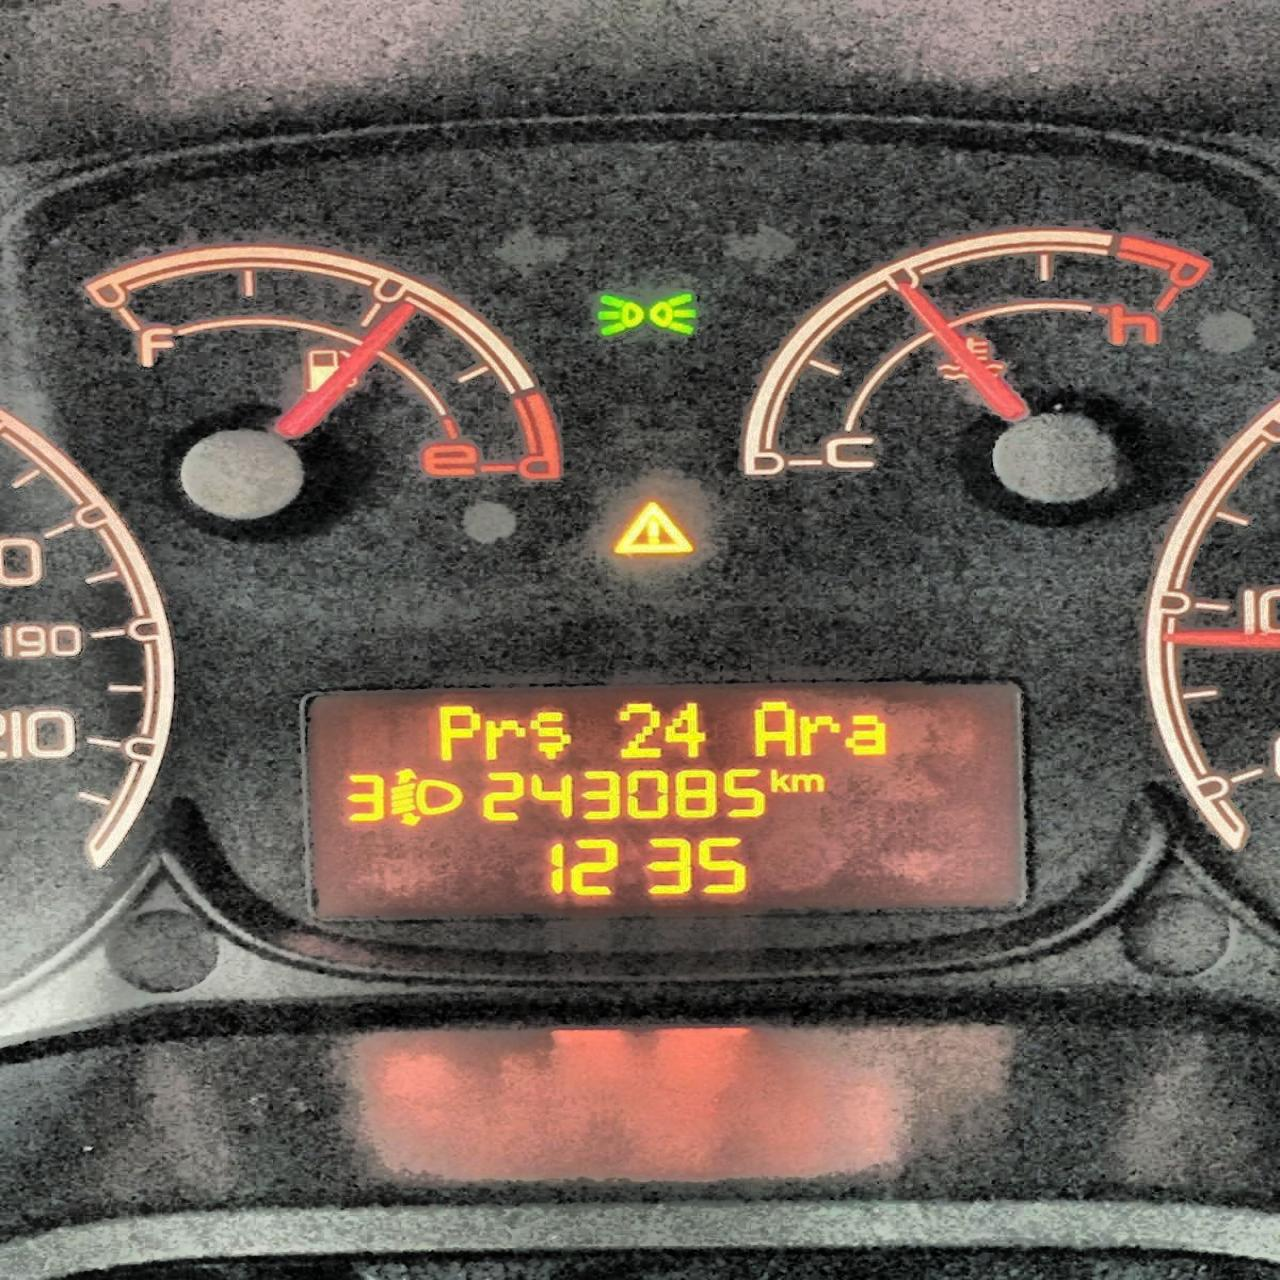0: (626, 765, 669, 819)
1: (542, 836, 564, 899)
2: (568, 836, 618, 897), (618, 700, 663, 763), (482, 767, 523, 824)
3: (639, 833, 693, 899), (341, 765, 383, 826), (579, 768, 620, 822)
4: (526, 768, 574, 822), (668, 699, 708, 760)
5: (693, 836, 751, 898), (722, 764, 763, 824)
8: (674, 765, 716, 822)
X: (435, 702, 478, 764), (754, 699, 797, 760), (531, 707, 573, 762), (844, 708, 887, 757), (797, 710, 840, 757), (484, 715, 525, 763), (792, 770, 826, 796), (768, 764, 790, 795)
odometer: (300, 676, 1035, 913)
